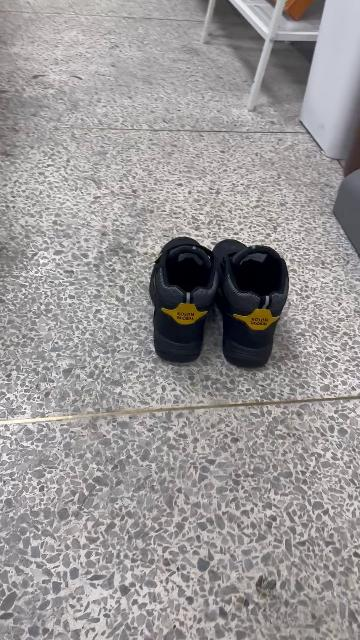shoe_worn: (211, 237, 291, 368), (147, 238, 217, 366)
